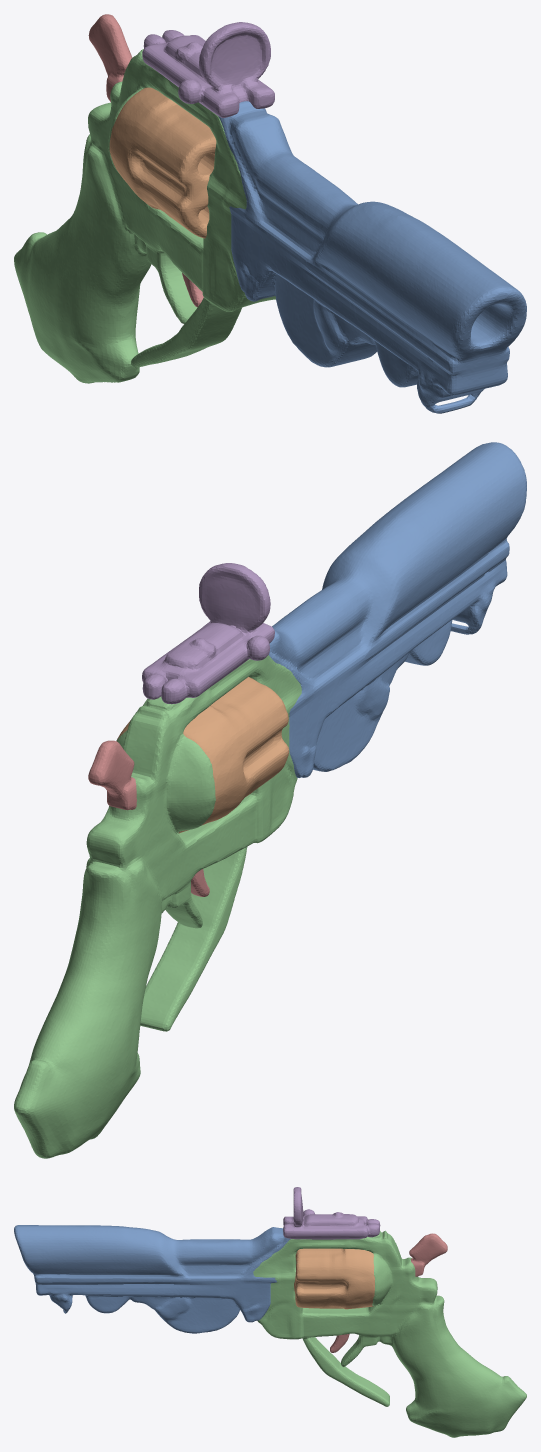
Rendered from wild_west_laser_pistol_4.glb.
3 renders of one model, top to bottom at view 1: azimuth 30°, elevation 25°; view 2: azimuth 150°, elevation 25°; view 3: azimuth 270°, elevation 25°, orthographic. The views are drawn at different scales.
Visible parts, largest first — view 1: Rusty_Iron_Barrel, Wooden_Grip, Tesla_Coil_Cylinder, Brass_Sights, Spur_Hammer; view 2: Wooden_Grip, Rusty_Iron_Barrel, Brass_Sights, Tesla_Coil_Cylinder, Spur_Hammer; view 3: Wooden_Grip, Rusty_Iron_Barrel, Tesla_Coil_Cylinder, Brass_Sights, Spur_Hammer.
Part boxes in pixels (box(x1,y1,x2,y2)): Rusty_Iron_Barrel: box(218, 101, 526, 413); Wooden_Grip: box(14, 49, 275, 383); Tesla_Coil_Cylinder: box(109, 87, 216, 238); Brass_Sights: box(142, 22, 274, 117); Spur_Hammer: box(88, 14, 203, 307); Wooden_Grip: box(14, 655, 301, 1158); Rusty_Iron_Barrel: box(268, 442, 526, 777); Brass_Sights: box(142, 563, 274, 704); Tesla_Coil_Cylinder: box(116, 677, 289, 833); Spur_Hammer: box(88, 740, 209, 896); Wooden_Grip: box(253, 1230, 526, 1437); Rusty_Iron_Barrel: box(14, 1225, 290, 1333); Tesla_Coil_Cylinder: box(294, 1248, 374, 1309); Brass_Sights: box(283, 1187, 380, 1239); Spur_Hammer: box(330, 1233, 447, 1352).
Size of the model in its own units: 0.2684 by 1.02 by 1.92.
